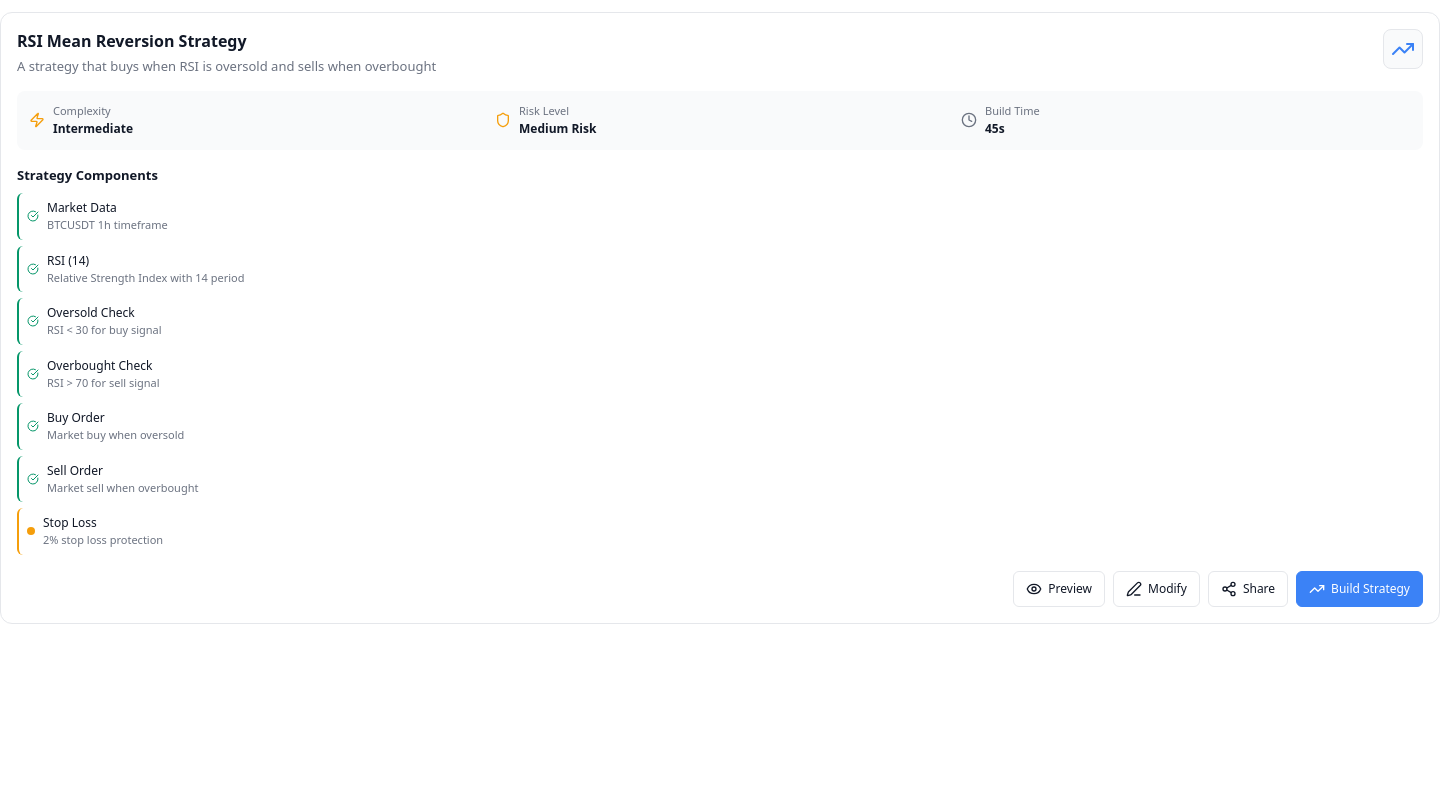
Test: StrategyPreview Component › opens modifier when modify button is clicked
The width and height of the screenshot is (1440, 801).
Click modify button
Click the button "Modify" at (1156, 589), box [1113,571,1200,607]
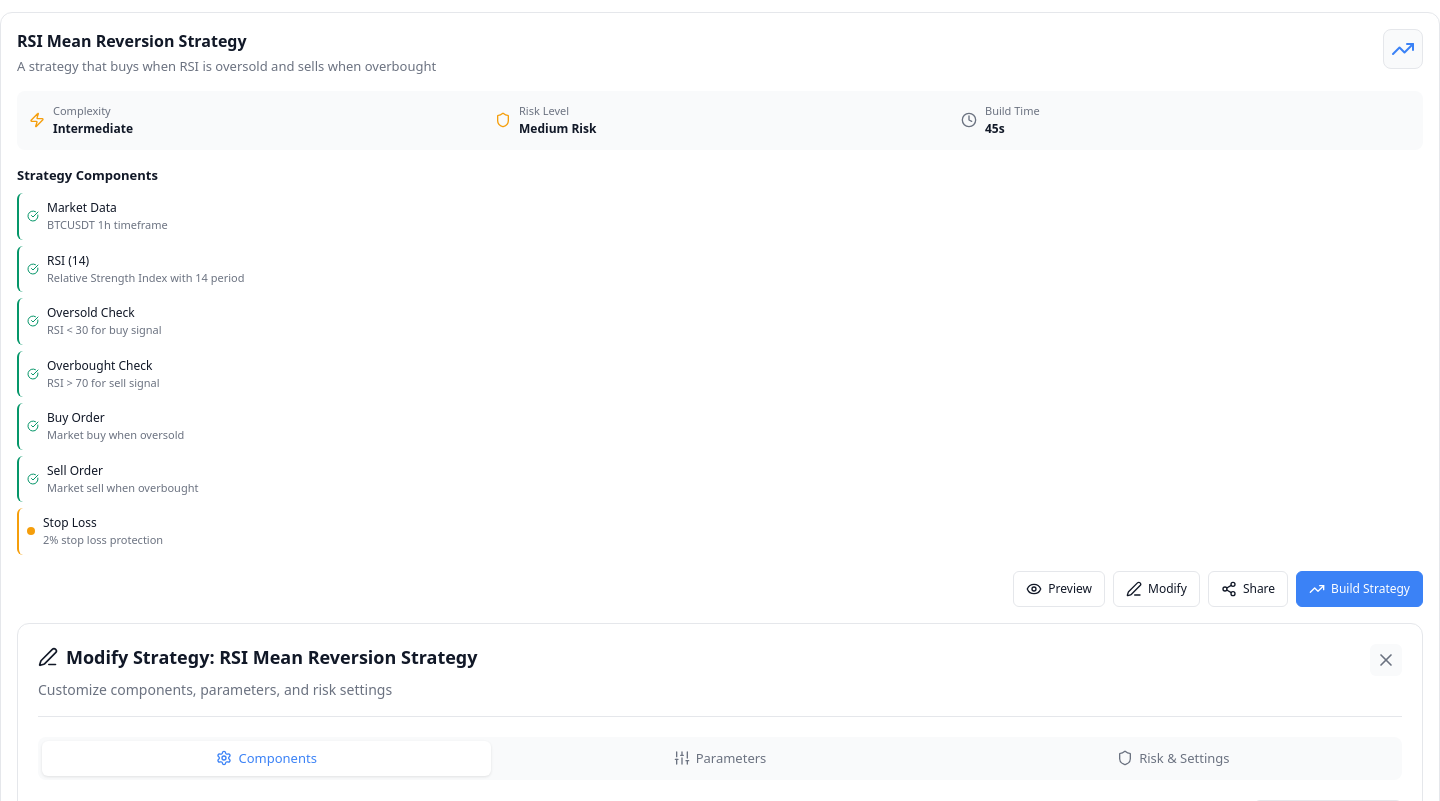
Check: the heading "Modify Strategy: RSI Mean Reversion Strategy" is shown, box [38,645,478,669]
